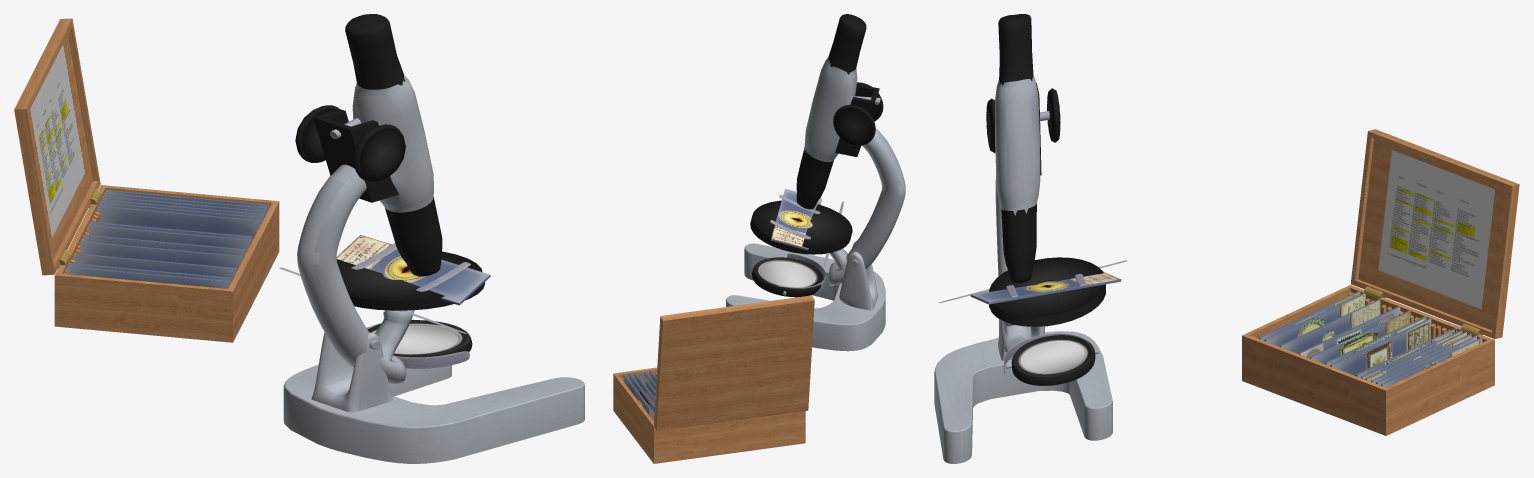
Rendered from StudentSet.fbx.
3 views of the same model, side by side, from view 1: azimuth 30°, elevation 25°; view 2: azimuth 150°, elevation 25°; view 3: azimuth 270°, elevation 25° (orthographic). The views are drawn at different scales.
Visible parts, largest first — view 1: MicroscopeLP_Ultra_LowMicroscope_ARM, MicroscopeLP_Ultra_LowMicroscope_BASE8, Slidebox_Bottom, Slidebox_TOP, MicroscopeLP_Ultra_LowMicroscope_pCube1, MicroscopeLP_Ultra_LowMicroscope_polySurface1, Slidebox_pCube42, Slidebox_pCube62, MicroscopeLP_Ultra_LowMicroscope_pCube2, MicroscopeLP_pCylinder2, MicroscopeLP_Ultra_LowMicroscope_Mirror, Slidebox_pCube71 (+13 smaller); view 2: Slidebox_TOP, MicroscopeLP_Ultra_LowMicroscope_ARM, Slidebox_Bottom, MicroscopeLP_Ultra_LowMicroscope_BASE8, MicroscopeLP_Ultra_LowMicroscope_polySurface1, MicroscopeLP_Ultra_LowMicroscope_Mirror, MicroscopeLP_Ultra_LowMicroscope_pCube1, Slidebox_pCube42, MicroscopeLP_pCylinder1, MicroscopeLP_Ultra_LowMicroscope_pCube2, MicroscopeLP_Ultra_LowMicroscope_Swivel, Slidebox_pCube67; view 3: Slidebox_TOP, Slidebox_Bottom, MicroscopeLP_Ultra_LowMicroscope_ARM, MicroscopeLP_Ultra_LowMicroscope_BASE8, MicroscopeLP_Ultra_LowMicroscope_polySurface1, MicroscopeLP_Ultra_LowMicroscope_Mirror, Slidebox_pCube68, Slidebox_pCube42, Slidebox_pCube72, Slidebox_pCube73, Slidebox_pCube70, Slidebox_pCube71 (+2 smaller).
Part boxes in pixels (box(x1,y1,x2,y2)): MicroscopeLP_Ultra_LowMicroscope_ARM: box(297, 14, 442, 383); MicroscopeLP_Ultra_LowMicroscope_BASE8: box(283, 364, 584, 463); Slidebox_Bottom: box(54, 185, 279, 342); Slidebox_TOP: box(14, 18, 100, 275); MicroscopeLP_Ultra_LowMicroscope_pCube1: box(311, 332, 392, 412); MicroscopeLP_Ultra_LowMicroscope_polySurface1: box(336, 251, 485, 310); Slidebox_pCube42: box(336, 235, 490, 305); Slidebox_pCube62: box(97, 205, 261, 237); MicroscopeLP_Ultra_LowMicroscope_pCube2: box(313, 109, 398, 202); MicroscopeLP_pCylinder2: box(353, 124, 405, 182); MicroscopeLP_Ultra_LowMicroscope_Mirror: box(367, 320, 472, 357); Slidebox_pCube71: box(79, 241, 243, 268); Slidebox_TOP: box(654, 295, 814, 431); MicroscopeLP_Ultra_LowMicroscope_ARM: box(796, 14, 905, 285); Slidebox_Bottom: box(613, 367, 805, 463); MicroscopeLP_Ultra_LowMicroscope_BASE8: box(726, 243, 885, 351); MicroscopeLP_Ultra_LowMicroscope_polySurface1: box(750, 200, 852, 254); MicroscopeLP_Ultra_LowMicroscope_Mirror: box(752, 257, 823, 297); MicroscopeLP_Ultra_LowMicroscope_pCube1: box(839, 240, 878, 310); Slidebox_pCube42: box(770, 188, 822, 250); MicroscopeLP_pCylinder1: box(833, 104, 875, 145); MicroscopeLP_Ultra_LowMicroscope_pCube2: box(835, 84, 879, 156); MicroscopeLP_Ultra_LowMicroscope_Swivel: box(777, 253, 825, 293); Slidebox_pCube67: box(623, 373, 654, 421); Slidebox_TOP: box(1350, 129, 1519, 338); Slidebox_Bottom: box(1242, 285, 1494, 435); MicroscopeLP_Ultra_LowMicroscope_ARM: box(995, 14, 1040, 357); MicroscopeLP_Ultra_LowMicroscope_BASE8: box(934, 331, 1112, 463); MicroscopeLP_Ultra_LowMicroscope_polySurface1: box(989, 257, 1105, 326); MicroscopeLP_Ultra_LowMicroscope_Mirror: box(1011, 335, 1095, 386); Slidebox_pCube68: box(1330, 318, 1431, 375); Slidebox_pCube42: box(970, 271, 1121, 304); Slidebox_pCube72: box(1279, 299, 1380, 353); Slidebox_pCube73: box(1264, 293, 1365, 346); Slidebox_pCube70: box(1309, 310, 1410, 363); Slidebox_pCube71: box(1299, 306, 1400, 358).
Bounding box in the file's own units: 1.02 × 1.22 × 1.75.
